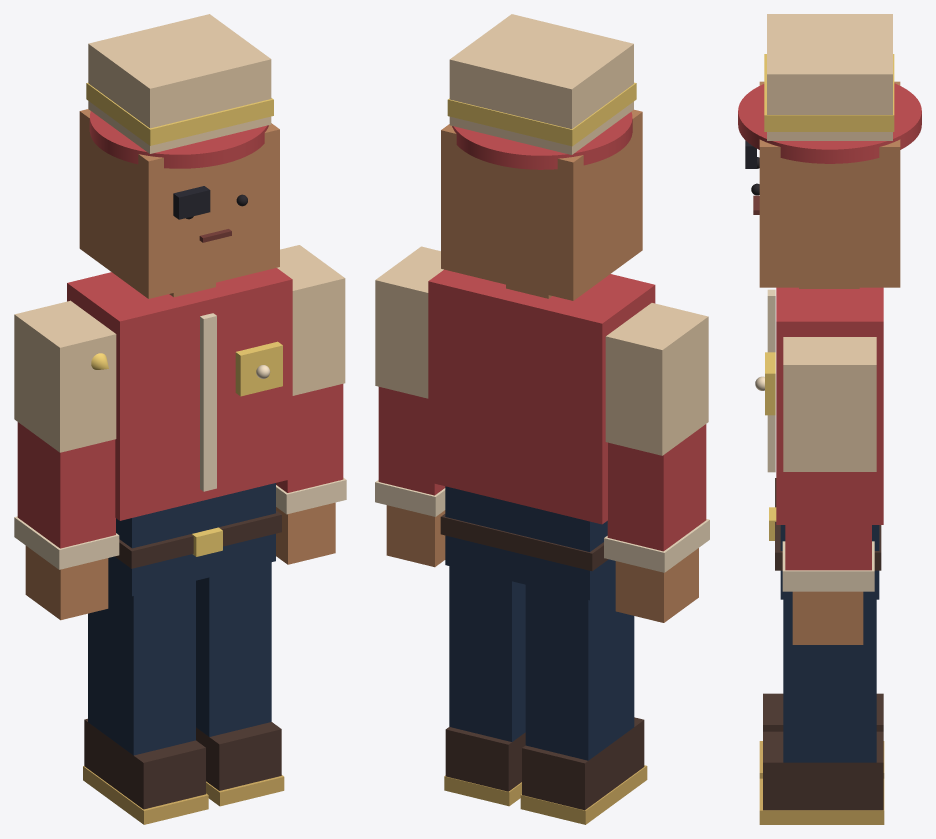
File: coral_captain.glb
The picture shows the model from 3 angles, left to right: view 1: azimuth 30°, elevation 25°; view 2: azimuth 150°, elevation 25°; view 3: azimuth 270°, elevation 25°; orthographic projection.
Parts seen in each view (by area): view 1: coral_captain_torso, coral_captain_head, coral_captain_left_leg, coral_captain_captain_cap, coral_captain_left_upper_sleeve, coral_captain_right_leg, coral_captain_left_forearm, coral_captain_waist, coral_captain_right_upper_sleeve, coral_captain_left_boot, coral_captain_right_forearm, coral_captain_right_boot (+13 smaller); view 2: coral_captain_torso, coral_captain_head, coral_captain_left_leg, coral_captain_captain_cap, coral_captain_left_upper_sleeve, coral_captain_right_leg, coral_captain_waist, coral_captain_left_forearm, coral_captain_right_upper_sleeve, coral_captain_left_boot, coral_captain_right_forearm, coral_captain_left_hand (+9 smaller); view 3: coral_captain_head, coral_captain_captain_cap, coral_captain_right_upper_sleeve, coral_captain_right_leg, coral_captain_right_forearm, coral_captain_torso, coral_captain_right_boot, coral_captain_captain_brim, coral_captain_right_hand, coral_captain_captain_band, coral_captain_right_cuff, coral_captain_right_sole (+5 smaller).
Boxes of the visible parts, x1,y1,x2,y2 form: coral_captain_torso: (67, 268, 292, 520); coral_captain_head: (79, 109, 279, 298); coral_captain_left_leg: (88, 579, 195, 755); coral_captain_captain_cap: (88, 14, 271, 153); coral_captain_left_upper_sleeve: (14, 300, 116, 452); coral_captain_right_leg: (196, 562, 271, 736); coral_captain_left_forearm: (17, 422, 115, 548); coral_captain_waist: (108, 483, 275, 596); coral_captain_right_upper_sleeve: (277, 245, 345, 395); coral_captain_left_boot: (84, 718, 205, 809); coral_captain_right_forearm: (276, 384, 343, 492); coral_captain_right_boot: (196, 722, 281, 790); coral_captain_torso: (428, 269, 655, 524); coral_captain_head: (441, 109, 642, 300); coral_captain_left_leg: (525, 582, 634, 760); coral_captain_captain_cap: (449, 14, 633, 154); coral_captain_left_upper_sleeve: (605, 303, 708, 455); coral_captain_right_leg: (449, 566, 525, 741); coral_captain_waist: (445, 486, 615, 600); coral_captain_left_forearm: (607, 424, 706, 551); coral_captain_right_upper_sleeve: (375, 246, 443, 398); coral_captain_left_boot: (522, 717, 644, 810); coral_captain_right_forearm: (378, 387, 445, 495); coral_captain_left_hand: (615, 548, 698, 622); coral_captain_head: (759, 81, 900, 287); coral_captain_captain_cap: (767, 14, 892, 140); coral_captain_right_upper_sleeve: (783, 337, 876, 471); coral_captain_right_leg: (783, 599, 876, 762); coral_captain_right_forearm: (785, 472, 871, 570); coral_captain_torso: (776, 287, 883, 524); coral_captain_right_boot: (763, 731, 883, 810); coral_captain_captain_brim: (738, 83, 921, 163); coral_captain_right_hand: (792, 591, 863, 644); coral_captain_captain_band: (764, 54, 894, 131); coral_captain_right_cuff: (782, 541, 874, 591); coral_captain_right_sole: (759, 778, 884, 824).
Bounding box in the file's own units: 0.516 × 1.25 × 0.28.
